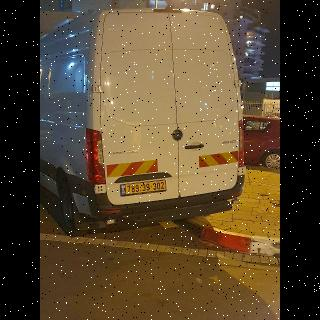LicensePlate: (125, 180, 166, 194)
